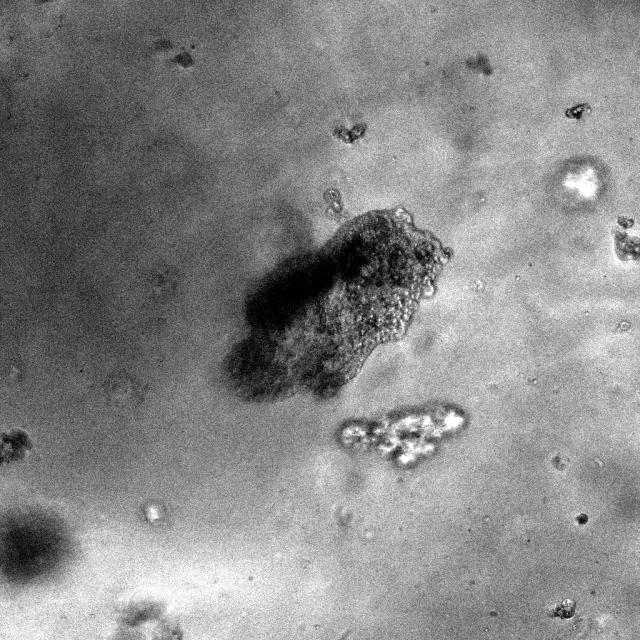organoid: (228, 208, 452, 400), (338, 400, 468, 468), (612, 216, 639, 261), (0, 428, 32, 465), (323, 188, 347, 221), (334, 122, 368, 145), (552, 598, 576, 618), (566, 103, 590, 119)
